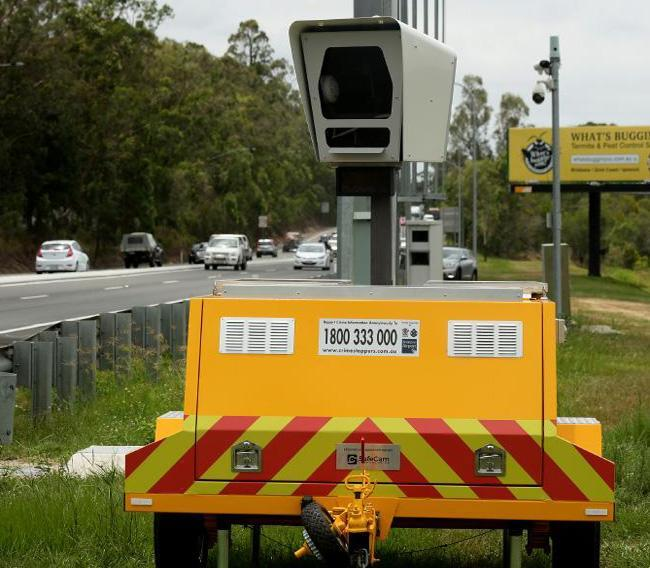Monitor: (287, 15, 457, 167)
